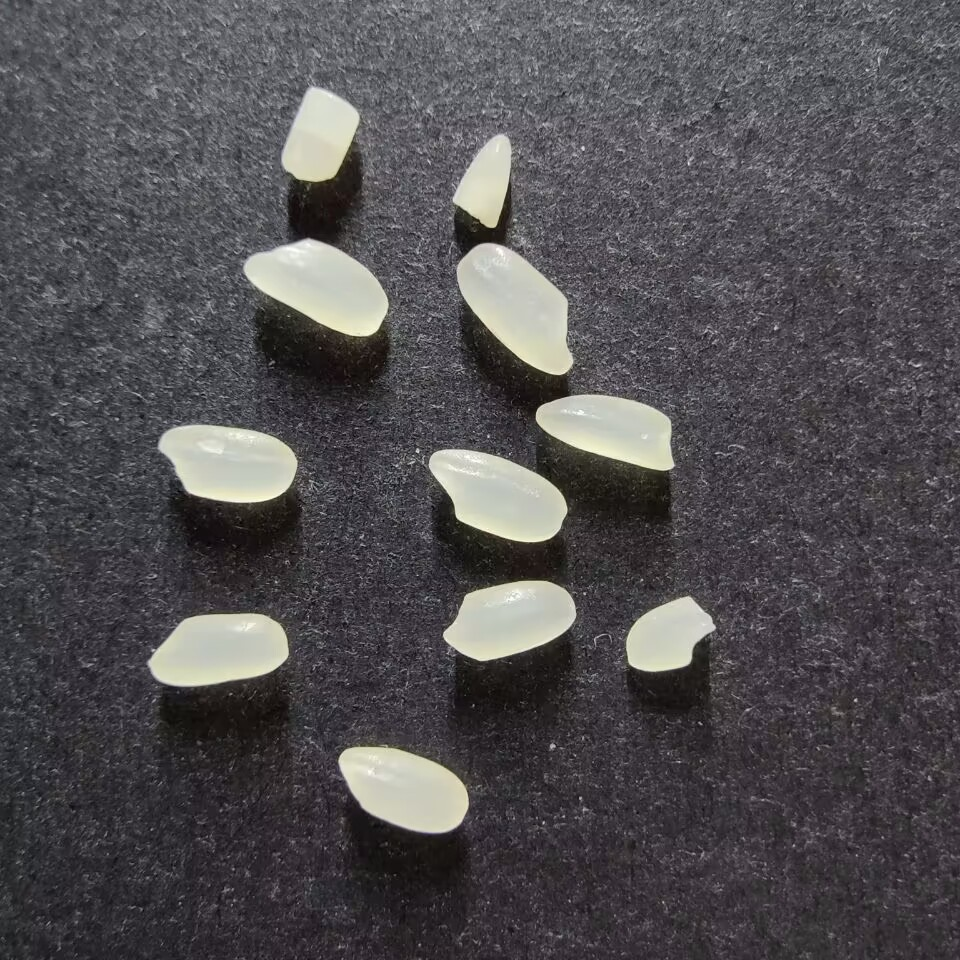broken: (280, 86, 360, 182), (625, 595, 715, 672), (451, 130, 511, 228)
rice: (455, 242, 573, 376), (243, 238, 388, 337), (428, 448, 568, 542), (338, 745, 468, 833), (534, 394, 677, 472), (442, 579, 577, 661), (158, 424, 297, 503), (148, 612, 288, 686)
